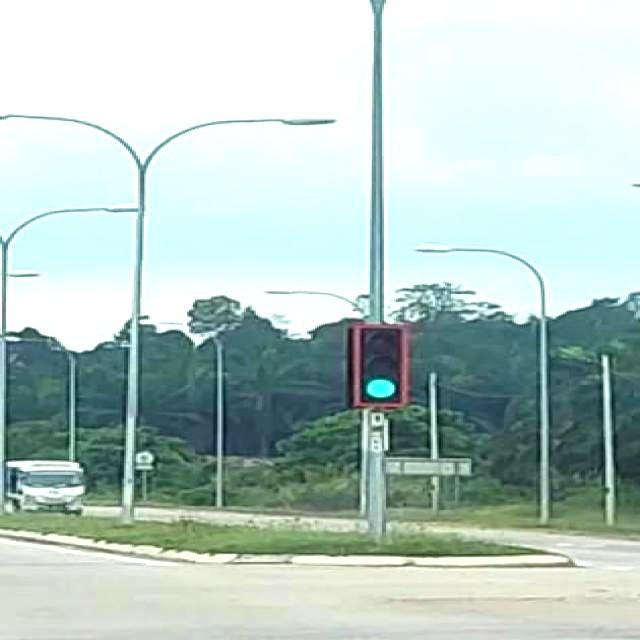Green: (352, 322, 408, 404)
